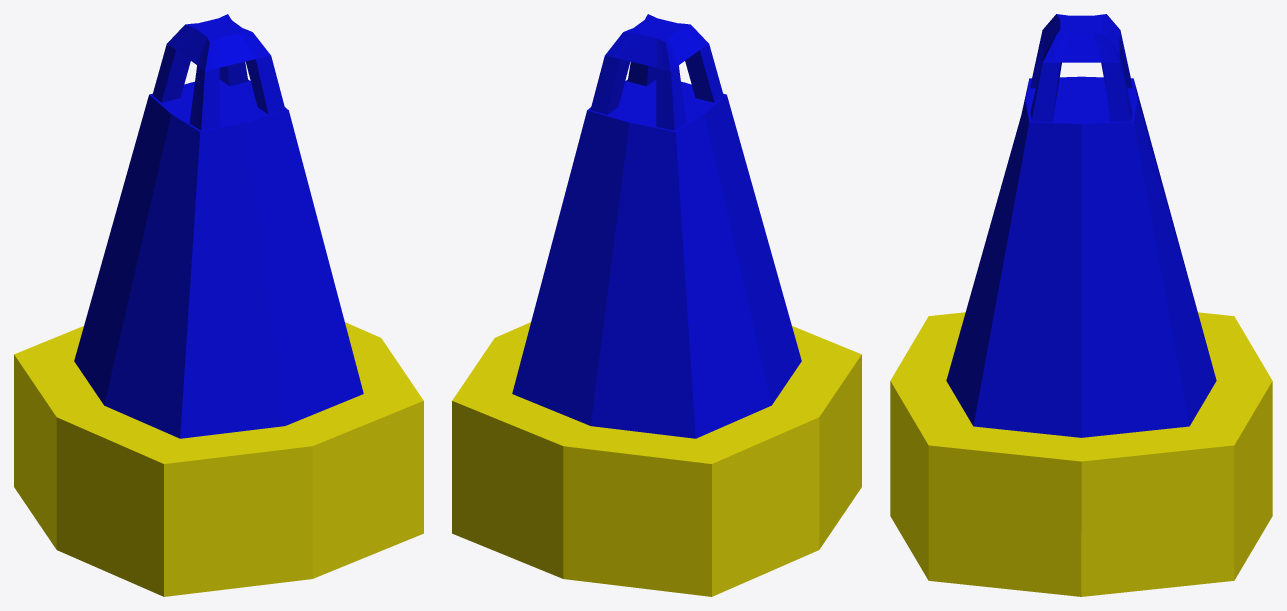
Rendered from Buoy.fbx.
The picture shows the model from 3 angles, left to right: view 1: azimuth 30°, elevation 25°; view 2: azimuth 150°, elevation 25°; view 3: azimuth 270°, elevation 25°; orthographic projection.
Visible parts, largest first — view 1: Cube; view 2: Cube; view 3: Cube.
Boxes of the visible parts, left/top/right/bottom form: Cube: left=14, top=14, right=423, bottom=596; Cube: left=452, top=14, right=861, bottom=596; Cube: left=890, top=14, right=1272, bottom=596.
Size of the model in its own units: 250 by 355 by 250.
